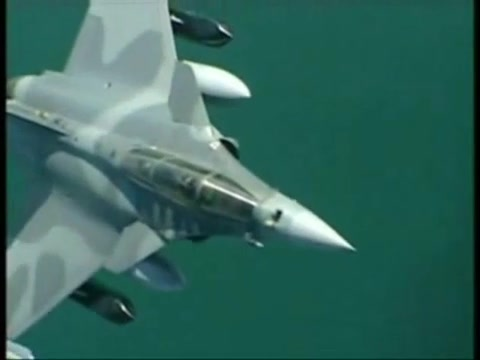aeroplane: (7, 2, 357, 359)
